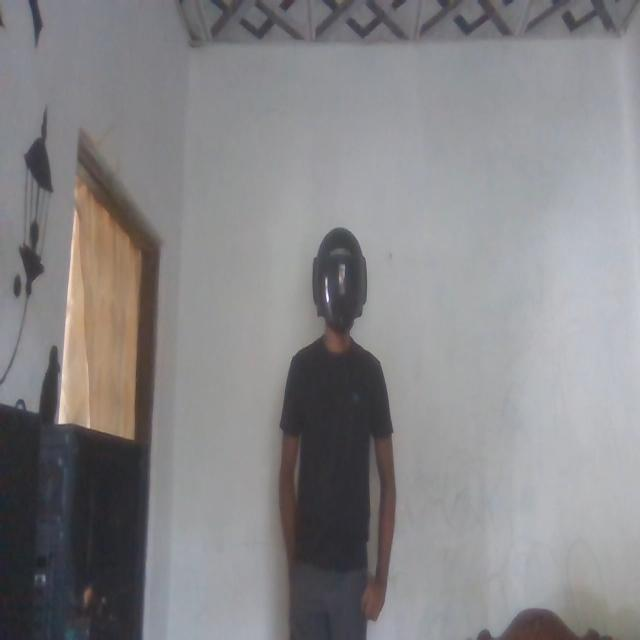Person: (276, 225, 399, 640), (308, 221, 366, 361)
